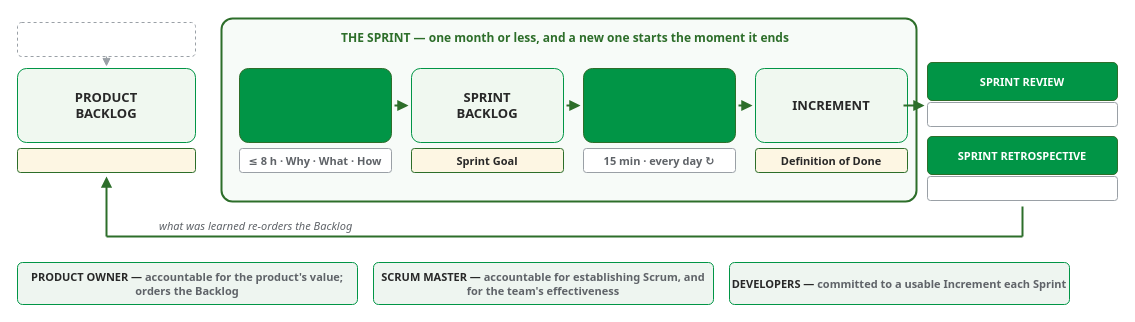
The diagram is 1135 pixels wide and 322 high, and some of its shapes have lost their labels. Each missing label, with the centre of its shape:
DAILY SCRUM: the point at 659,105
Epics · user stories: the point at 106,39
Product Goal: the point at 106,160
SPRINT PLANNING: the point at 315,105
≤ 3 h · the way of working: the point at 1022,188
≤ 4 h · the Increment: the point at 1022,114
